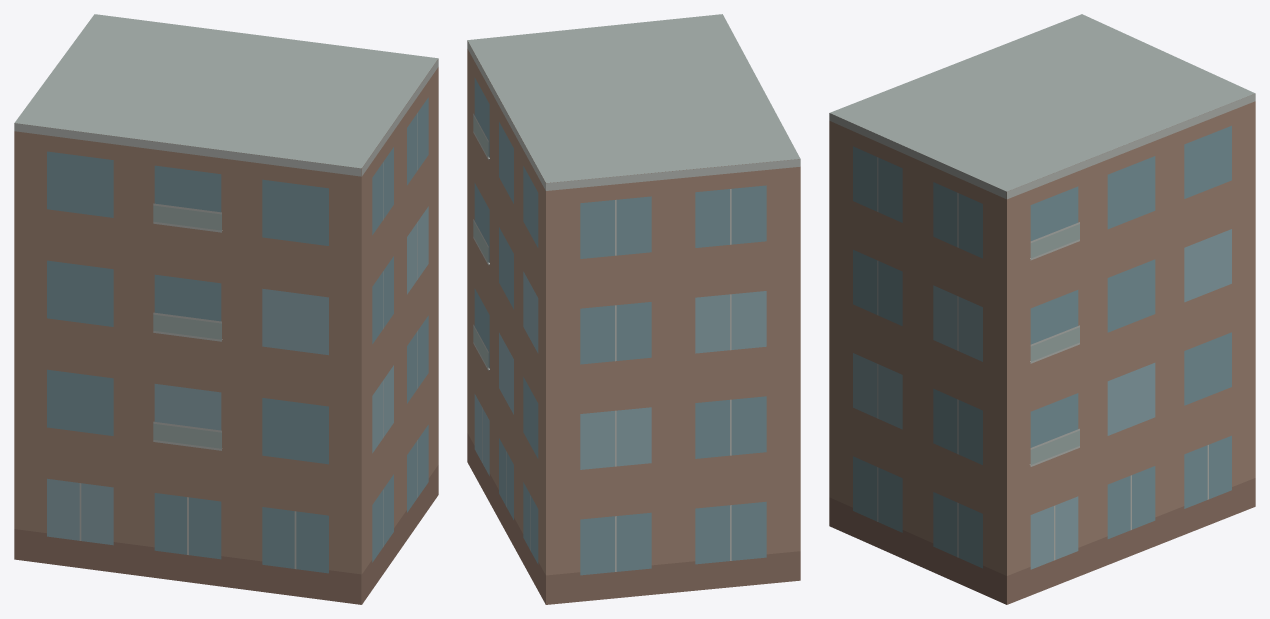
Rendered from survey-upis-32560837.glb.
The picture shows the model from 3 angles, left to right: view 1: azimuth 30°, elevation 25°; view 2: azimuth 150°, elevation 25°; view 3: azimuth 270°, elevation 25°; orthographic projection. The views are drawn at different scales.
Visible parts, largest first — view 1: survey-upis-32560837.tmp; view 2: survey-upis-32560837.tmp; view 3: survey-upis-32560837.tmp.
Part boxes in pixels (<box>): survey-upis-32560837.tmp: <box>14,14,438,604</box>; survey-upis-32560837.tmp: <box>467,14,800,604</box>; survey-upis-32560837.tmp: <box>829,14,1255,604</box>.
Size of the model in its own units: 11.99 by 13 by 12.16.
